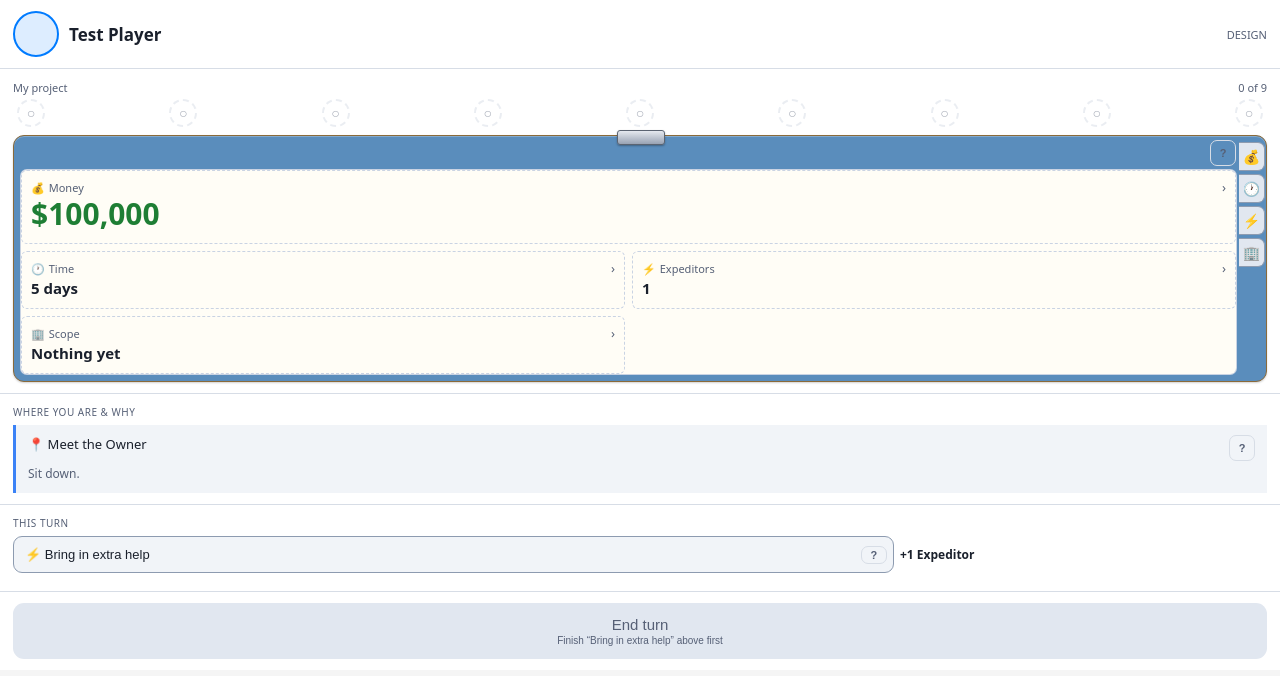
Test: PlayerPanelV2 — one "?" everywhere › the space's own "?" › opens the same two lines the old "What to do & why" link opened
The width and height of the screenshot is (1280, 676).
Click the button named "What's this? Meet the Owner". click: (1242, 448)
box: [1229,435,1255,461]
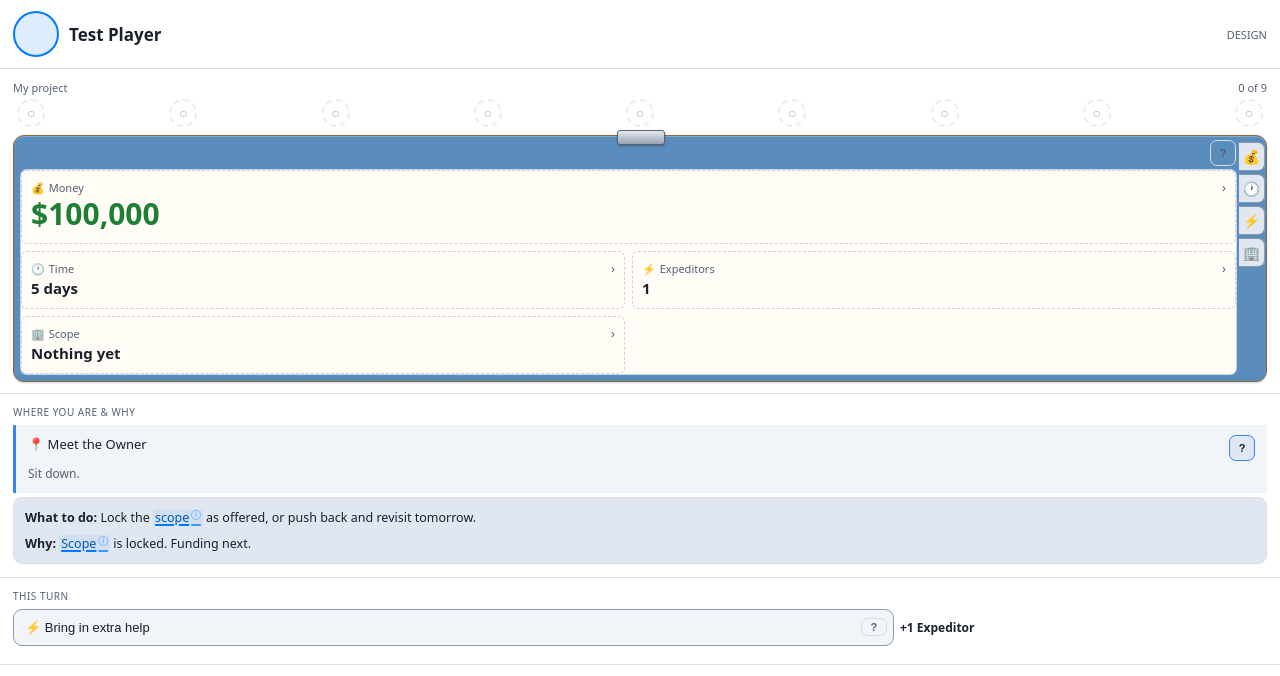
Expected: the button named "What's this? Meet the Owner" is expanded, [1229,435,1255,461]
